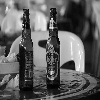beer: (42, 6, 66, 93)
